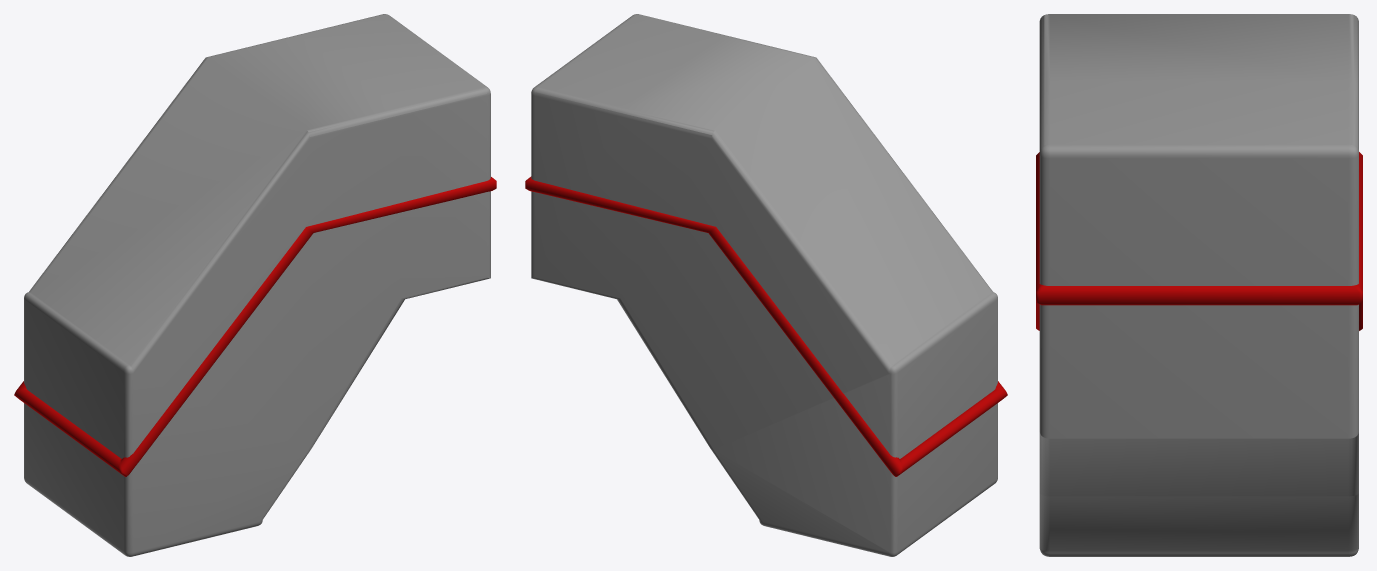
The model's file is Model_StagesBlocks_Ramp_Finished.fbx.
The picture shows the model from 3 angles, left to right: view 1: azimuth 30°, elevation 25°; view 2: azimuth 150°, elevation 25°; view 3: azimuth 270°, elevation 25°; orthographic projection. The views are drawn at different scales.
Visible parts, largest first — view 1: Ramp; view 2: Ramp; view 3: Ramp.
Part boxes in pixels (box(x1,y1,x2,y2)): Ramp: box(14, 14, 496, 556); Ramp: box(525, 14, 1007, 556); Ramp: box(1036, 14, 1362, 556).
Size of the model in its own units: 206 by 200 by 102.
